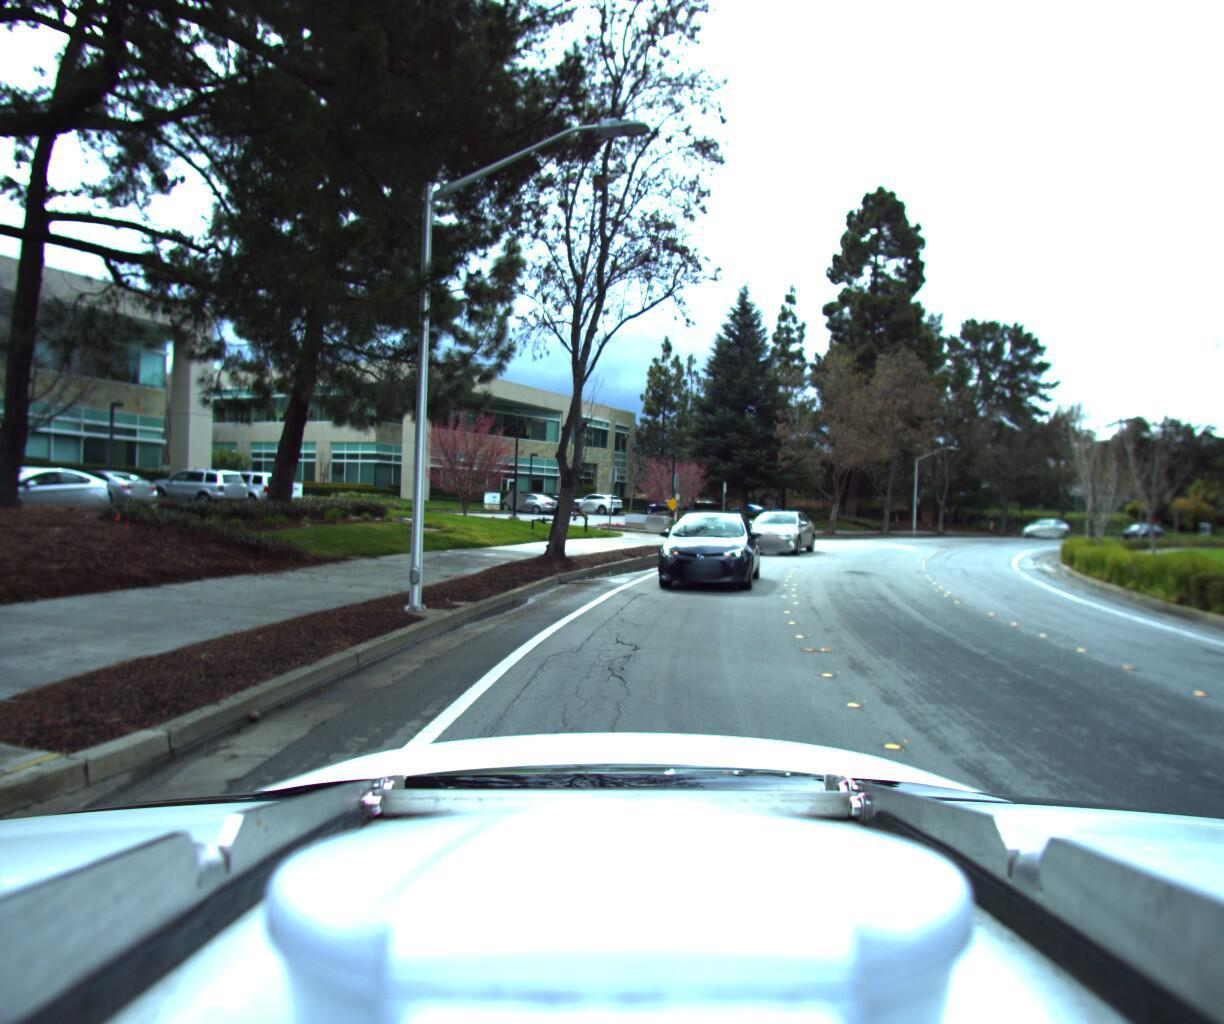car: (645, 504, 757, 596), (739, 500, 818, 550), (1014, 511, 1066, 536)
